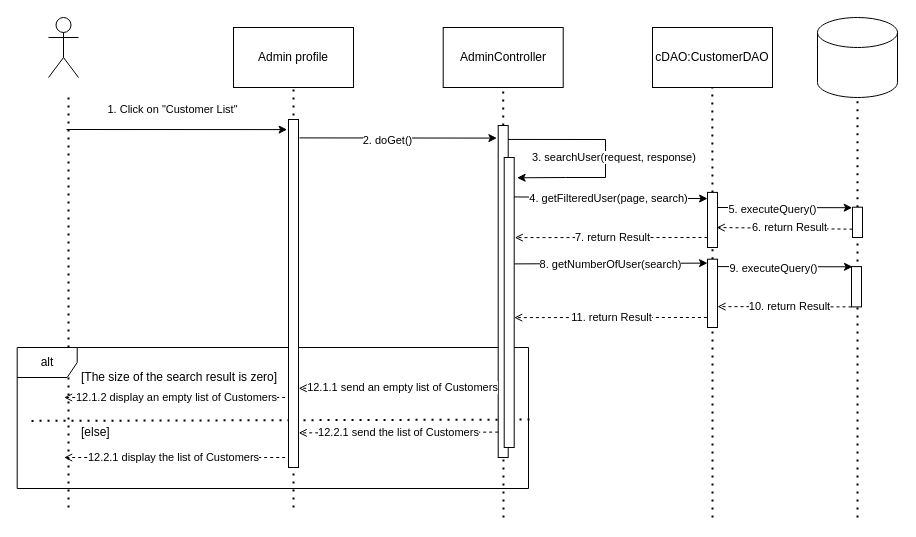
The diagram is 916 pixels wide and 537 high, and some of its shapes have lost their labels. The shapes that lost their labels are listed below. From the top down, each one's centre as x and y in pixels, then its label:
At (63,47): "Admin".
At (857,57): "DB".
